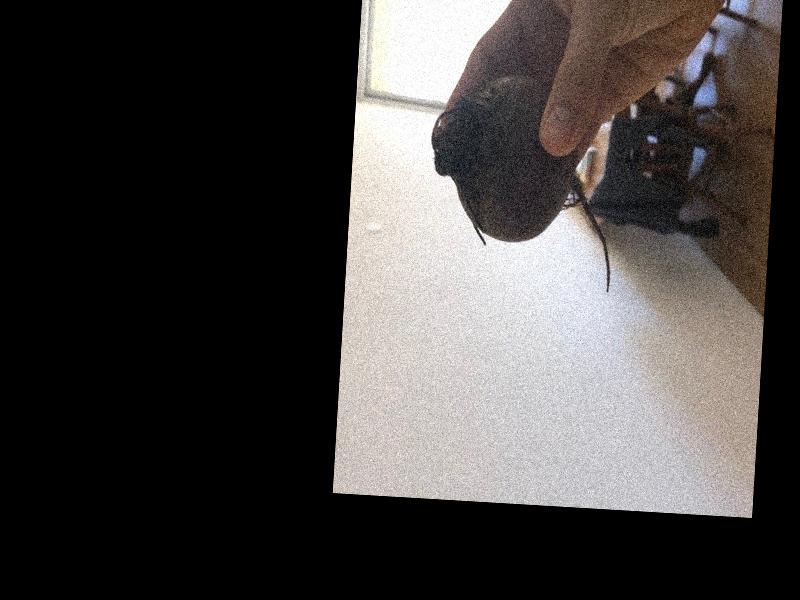Beet: (422, 70, 621, 294)
